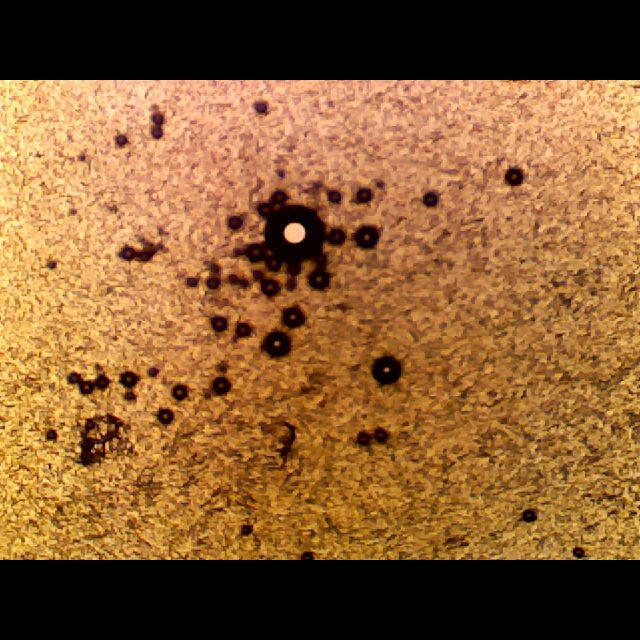microbeads: (259, 206, 329, 264)
